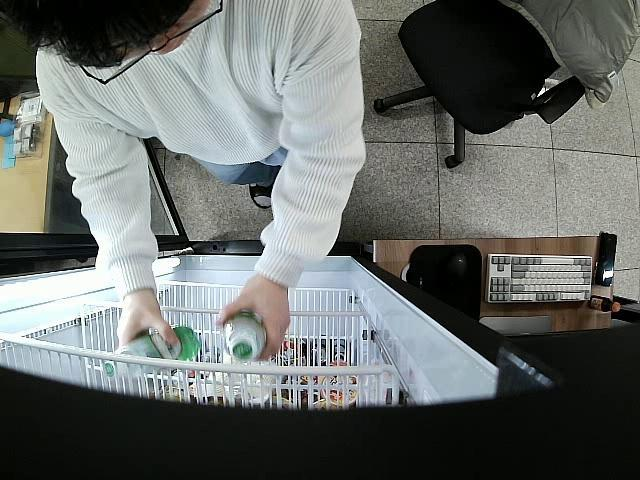18_trevi: (104, 328, 200, 380), (222, 310, 266, 362)
